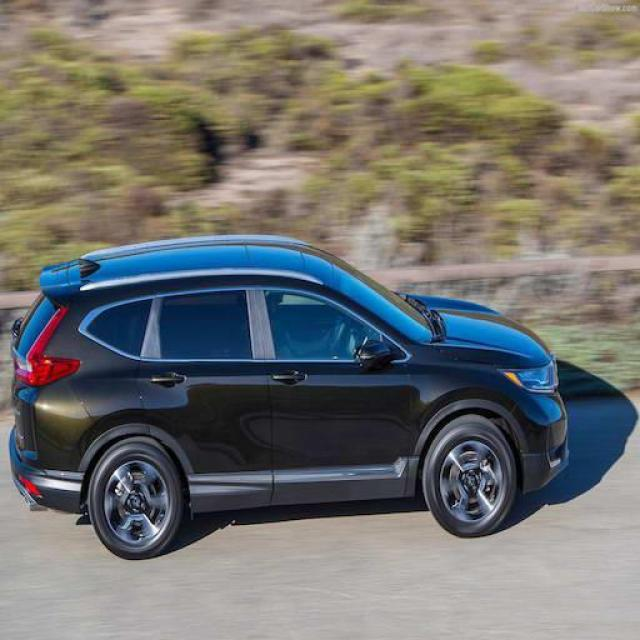back_bumper: (8, 376, 103, 514)
back_glass: (13, 291, 62, 356)
back_right_door: (134, 286, 275, 512)
back_right_light: (12, 306, 80, 388)
front_glass: (332, 253, 447, 346)
front_right_door: (256, 287, 411, 505)
front_right_light: (501, 356, 560, 394)
hood: (406, 293, 555, 368)
right_mirror: (358, 339, 397, 369)
wheel: (89, 416, 517, 561)
